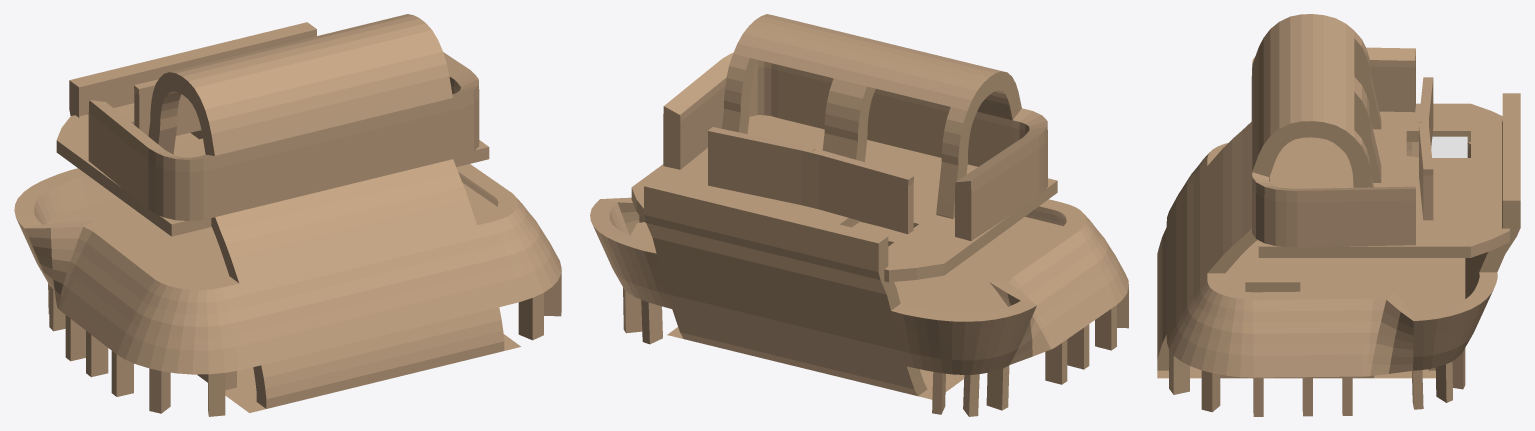
File: dclgallery3.glb
3 views of the same model, side by side, from view 1: azimuth 30°, elevation 25°; view 2: azimuth 150°, elevation 25°; view 3: azimuth 270°, elevation 25° (orthographic). The views are drawn at different scales.
Visible parts, largest first — view 1: Plane.003, Plane.006, Plane.007; view 2: Plane.003, Plane.007, Plane.006; view 3: Plane.003, Plane.007, Plane.006, First.
Boxes of the visible parts, left/top/right/bottom form: Plane.003: left=14, top=14, right=561, bottom=416; Plane.006: left=47, top=183, right=497, bottom=281; Plane.007: left=56, top=105, right=489, bottom=236; Plane.003: left=590, top=14, right=1128, bottom=416; Plane.007: left=631, top=115, right=1057, bottom=282; Plane.006: left=630, top=217, right=1062, bottom=313; Plane.003: left=1157, top=14, right=1520, bottom=416; Plane.007: left=1258, top=103, right=1509, bottom=257; Plane.006: left=1225, top=156, right=1465, bottom=313; First: left=1431, top=136, right=1467, bottom=157.
Size of the model in its own units: 30.29 by 18.08 by 23.32.
